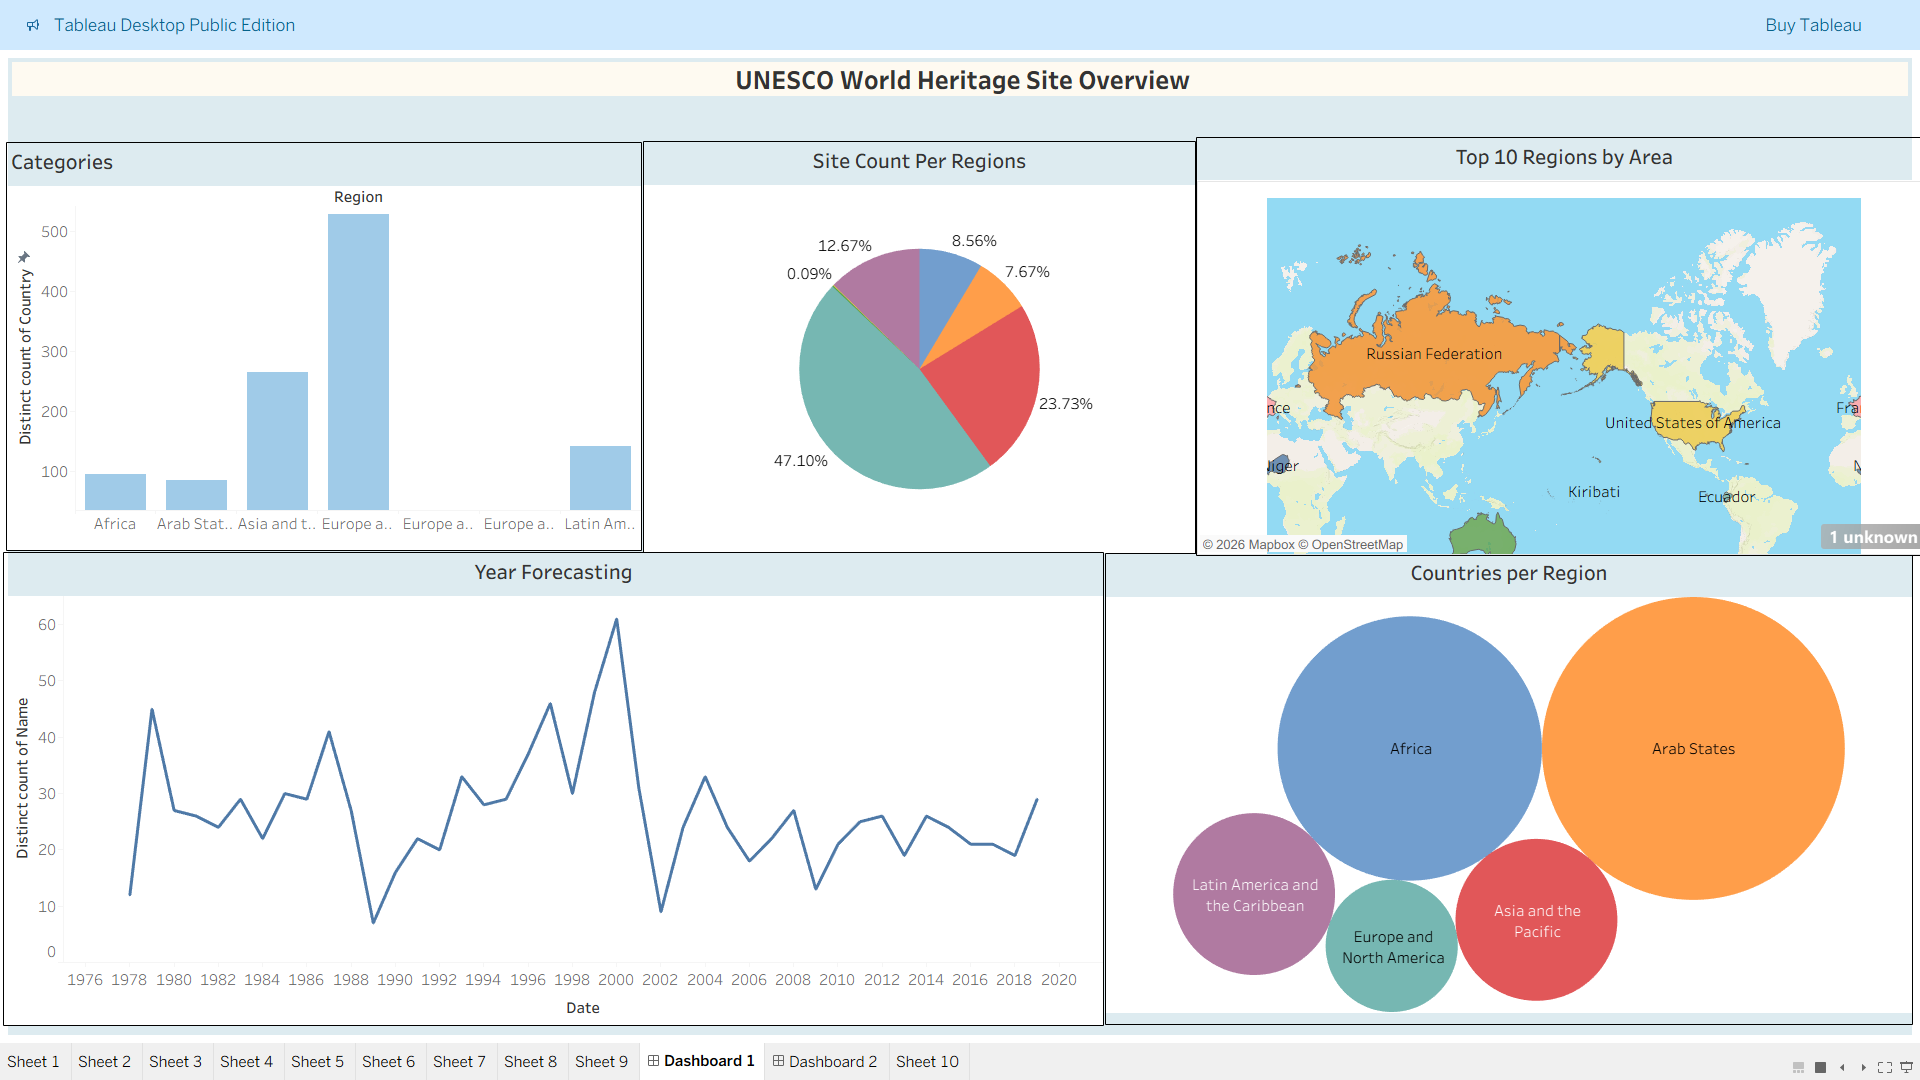

This screenshot's page, from the dashboard's own definition file:
{"tool":"tableau","page":{"name":"Dashboard 1","canvas":[1000,1000],"units":"permille","ordinal":0},"visuals":[{"type":"title","box":[4.8,10,990.3,52.4]},{"type":"worksheet","title":"Sheet 7","mark":"Pie","box":[334.9,91.1,287.9,415.7]},{"type":"worksheet","title":"Sheet 6","mark":"Automatic","rows":["name_en"],"cols":["region_en"],"box":[3,92.4,331.3,412]},{"type":"worksheet","title":"Sheet 5","mark":"Line","rows":["name_en"],"cols":["date_inscribed"],"box":[1.8,505.6,573.3,476.9]},{"type":"worksheet","title":"Sheet 1","mark":"Circle","box":[575.7,506.9,420.6,475.7]}]}

Visuals, with their boxes on the dashboard's canvas, which has no fixed pixel size, in thousandths of its width and height (x1, y1, x2, y2). These are canvas units, not pixel positions in the 1920x1080 screenshot, which may show the page scaled, cropped or inside an application window:
title: x1=5 y1=10 x2=995 y2=62
"Sheet 7" worksheet (Pie marks): x1=335 y1=91 x2=623 y2=507
"Sheet 6" worksheet: x1=3 y1=92 x2=334 y2=504
"Sheet 5" worksheet (Line marks): x1=2 y1=506 x2=575 y2=982
"Sheet 1" worksheet (Circle marks): x1=576 y1=507 x2=996 y2=983
